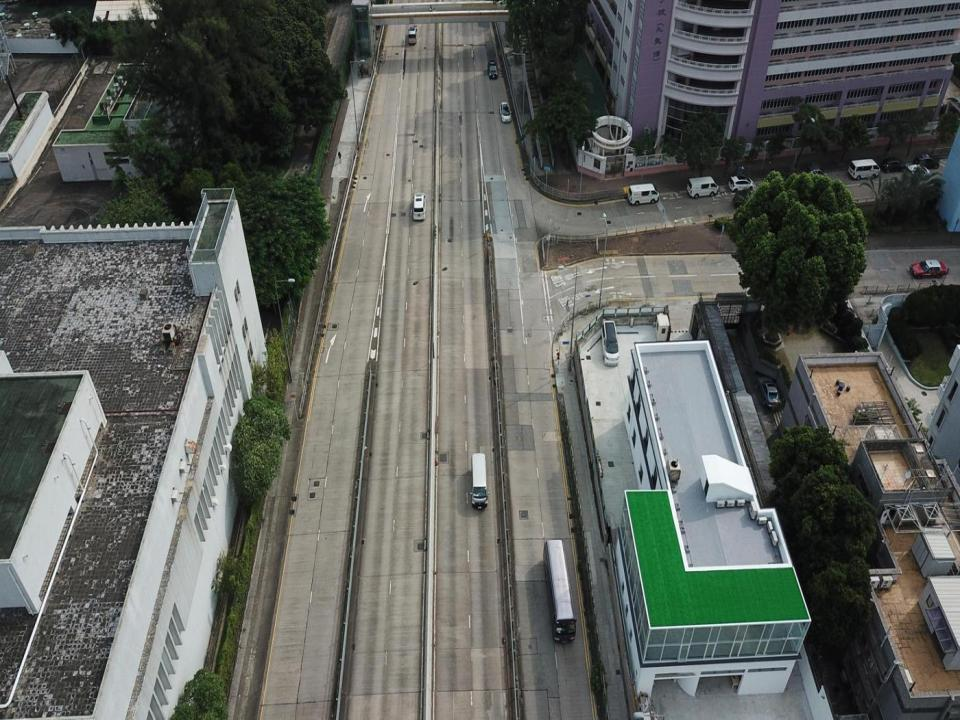bus: (542, 538, 576, 643)
car: (758, 376, 780, 410), (909, 258, 948, 277), (728, 174, 758, 192), (733, 189, 761, 208), (911, 153, 942, 166), (881, 157, 906, 173), (905, 164, 931, 179), (413, 192, 426, 219), (499, 100, 512, 124), (487, 60, 498, 80)
van: (471, 453, 489, 510), (601, 320, 620, 365), (628, 182, 659, 206), (686, 176, 718, 198), (848, 157, 880, 179), (408, 25, 419, 44)
